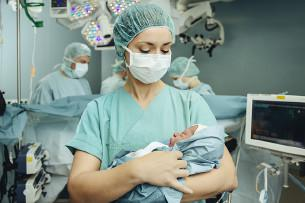NONE: (166, 128, 198, 150)
OK: (128, 37, 174, 83), (69, 56, 90, 77), (171, 73, 192, 93)
